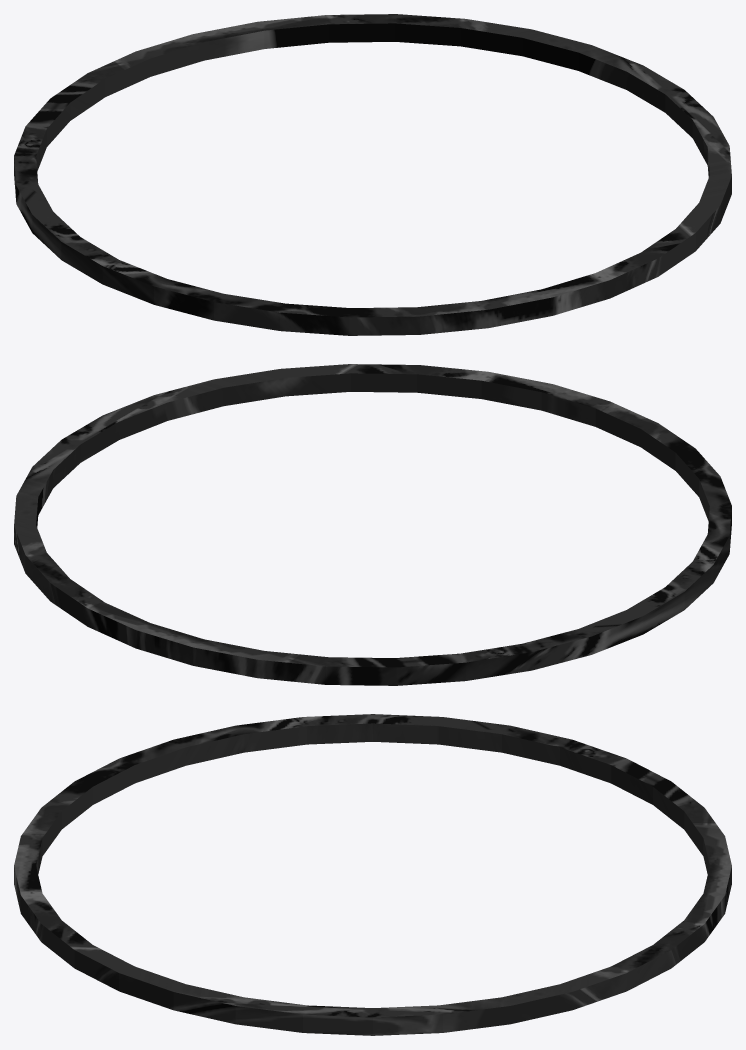
The model's file is Border.fbx.
3 views of the same model, one above another, from view 1: azimuth 30°, elevation 25°; view 2: azimuth 150°, elevation 25°; view 3: azimuth 270°, elevation 25° (orthographic).
Parts seen in each view (by area): view 1: Border; view 2: Border; view 3: Border.
Boxes of the visible parts, x1,y1,x2,y2 form: Border: [14, 14, 731, 335]; Border: [14, 364, 731, 685]; Border: [14, 714, 731, 1035].
Bounding box in the file's own units: 21.6 × 0.6111 × 21.6.
